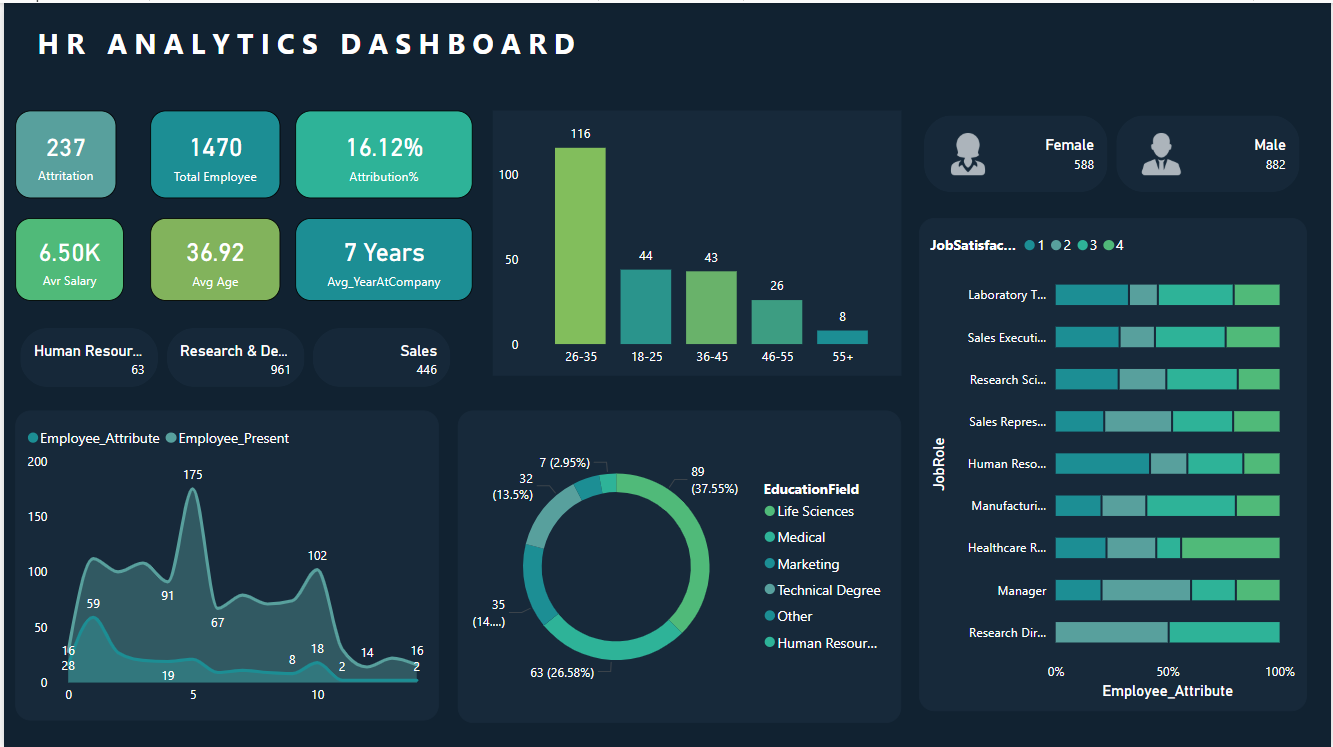

Layout of this report page (visuals, bound fields, positions):
{"tool":"powerbi","page":{"name":"Page 1","canvas":[1280,720],"ordinal":0},"visuals":[{"type":"image","box":[1091.8,120.6,50.7,50.7],"z":0},{"type":"image","box":[903.6,120.6,54.3,50.7],"z":1000},{"type":"card","fields":{"Values":["HR_Analytics.Employee_Attribute"]},"box":[10.9,103.8,97.7,84.5],"z":2000},{"type":"card","fields":{"Values":["HR_Analytics.Employee_Count"]},"box":[141.2,103.8,125.5,84.5],"z":3000},{"type":"card","fields":{"Values":["HR_Analytics.Avg_YearAtCompany"]},"box":[281.1,207.5,171.3,79.6],"z":4000},{"type":"card","fields":{"Values":["HR_Analytics.Attribution%"]},"box":[281.1,103.8,171.3,84.5],"z":5000},{"type":"card","fields":{"Values":["HR_Analytics.Average_MonthlySalary"]},"box":[10.9,207.5,105,79.6],"z":6000},{"type":"card","fields":{"Values":["HR_Analytics.Avg_Age"]},"box":[141.2,207.5,125.5,79.6],"z":7000},{"type":"areaChart","fields":{"Category":["HR_Analytics.YearsAtCompany"],"Y":["HR_Analytics.Employee_Attribute","HR_Analytics.Employee_Present"]},"box":[10.9,393.3,409,299.2],"z":8000},{"type":"donutChart","fields":{"Y":["HR_Analytics.Employee_Attribute"],"Category":["HR_Analytics.EducationField"]},"box":[438.5,393,428.4,302],"z":9000},{"type":"columnChart","fields":{"Y":["HR_Analytics.Employee_Attribute"],"Category":["HR_Analytics.AgeGroup"]},"box":[471.7,103.8,394.5,255.8],"z":10000},{"type":"hundredPercentStackedBarChart","fields":{"Category":["HR_Analytics.JobRole"],"Y":["HR_Analytics.Employee_Attribute"],"Series":["HR_Analytics.JobSatisfaction"]},"box":[883.2,207.2,374,476.4],"z":11000},{"type":"advancedSlicerVisual","fields":{"Values":["HR_Analytics.Gender"]},"box":[883.1,103.8,374,84.5],"z":12000},{"type":"advancedSlicerVisual","fields":{"Values":["HR_Analytics.Department"]},"box":[10.9,308.8,427.1,67.6],"z":13000},{"type":"textbox","box":[10.9,15.7,561,72.4],"z":14000}]}

Visuals, with their boxes in screenshot pixels (x1, y1, x2, y2), scaled from the page's 1280x720 canvas onto the 1333x747 screenshot:
image: [1137, 125, 1190, 178]
image: [941, 125, 998, 178]
card - HR_Analytics.Employee_Attribute: [11, 108, 113, 195]
card - HR_Analytics.Employee_Count: [147, 108, 278, 195]
card - HR_Analytics.Avg_YearAtCompany: [293, 215, 471, 298]
card - HR_Analytics.Attribution%: [293, 108, 471, 195]
card - HR_Analytics.Average_MonthlySalary: [11, 215, 121, 298]
card - HR_Analytics.Avg_Age: [147, 215, 278, 298]
areaChart - HR_Analytics.YearsAtCompany x HR_Analytics.Employee_Attribute: [11, 408, 437, 718]
donutChart - HR_Analytics.Employee_Attribute x HR_Analytics.EducationField: [457, 408, 903, 721]
columnChart - HR_Analytics.Employee_Attribute x HR_Analytics.AgeGroup: [491, 108, 902, 373]
hundredPercentStackedBarChart - HR_Analytics.JobRole x HR_Analytics.Employee_Attribute: [920, 215, 1309, 709]
advancedSlicerVisual - HR_Analytics.Gender: [920, 108, 1309, 195]
advancedSlicerVisual - HR_Analytics.Department: [11, 320, 456, 391]
textbox: [11, 16, 596, 91]
